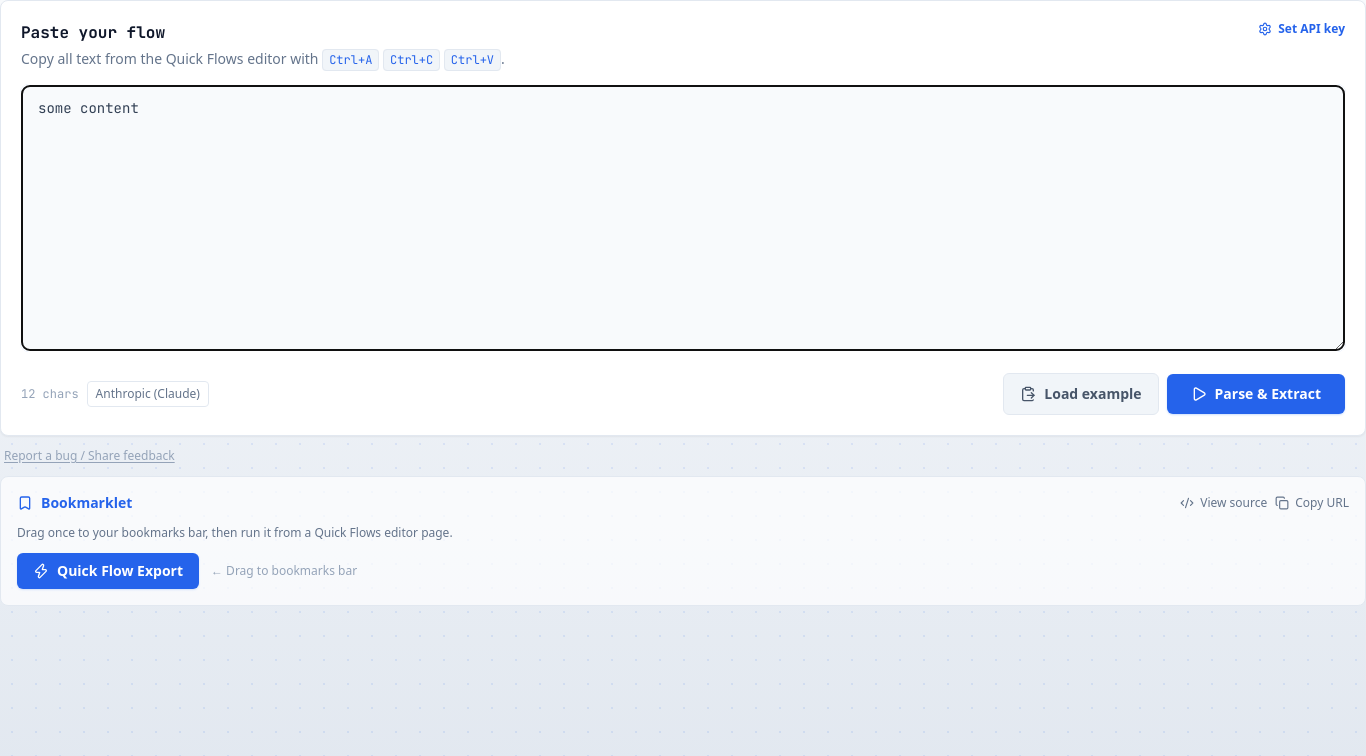
Scenario: PastePhase › shows API key prompt when no key stored and Parse is clicked
Click the button "Parse & Extract" at (1256,394), box x1=1167 y1=374 x2=1345 y2=414
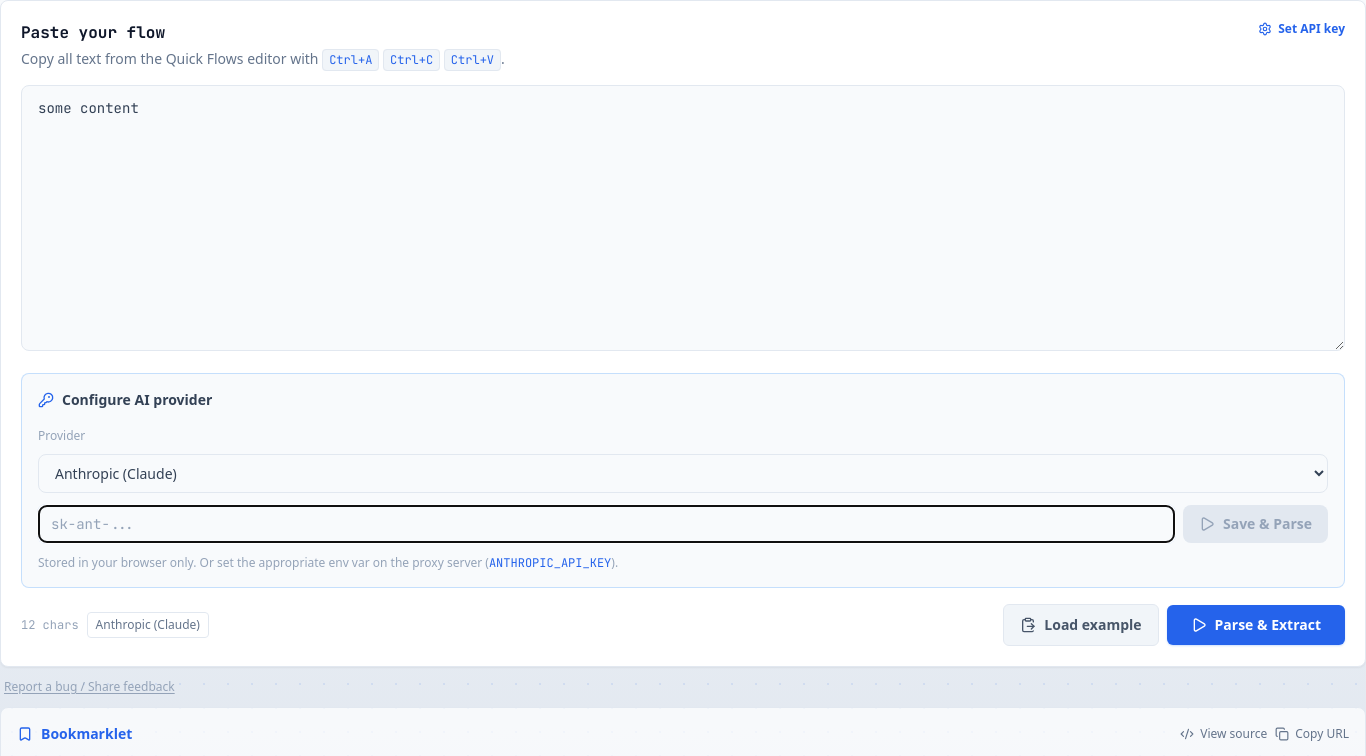
expect the text "Configure AI provider" is shown: met, box x1=62 y1=390 x2=212 y2=410
